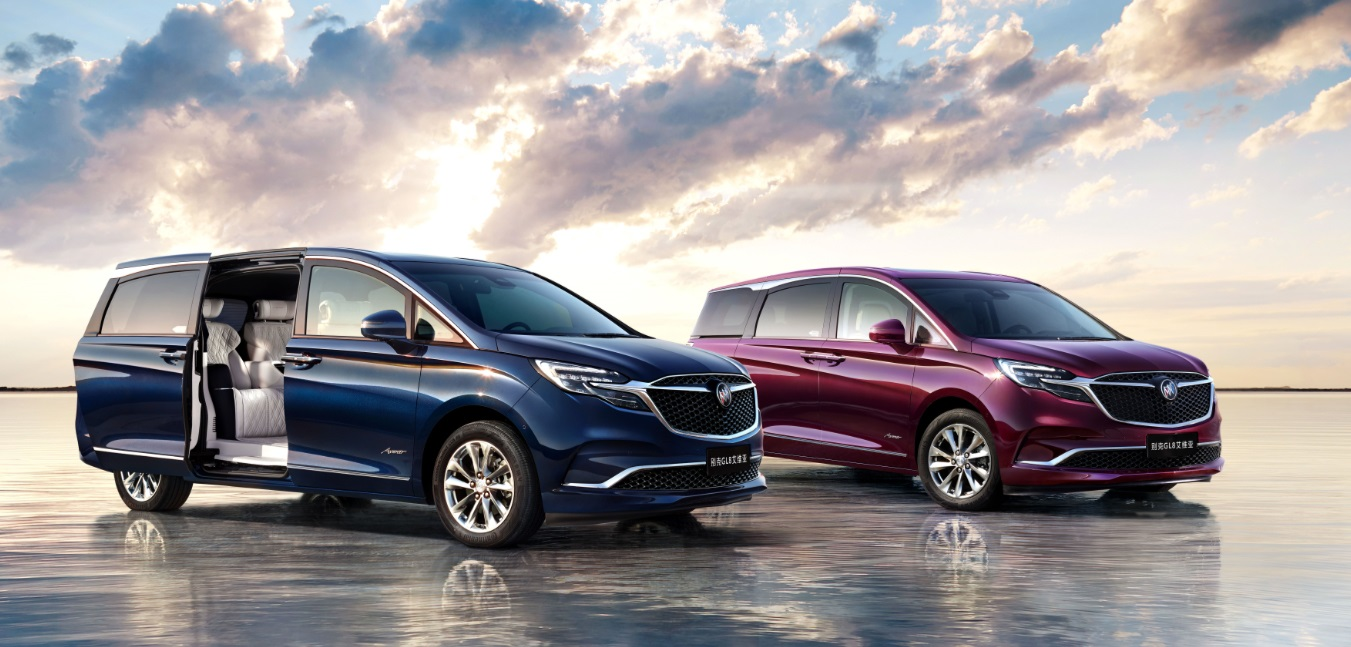car: (73, 246, 767, 553), (688, 266, 1226, 513)
